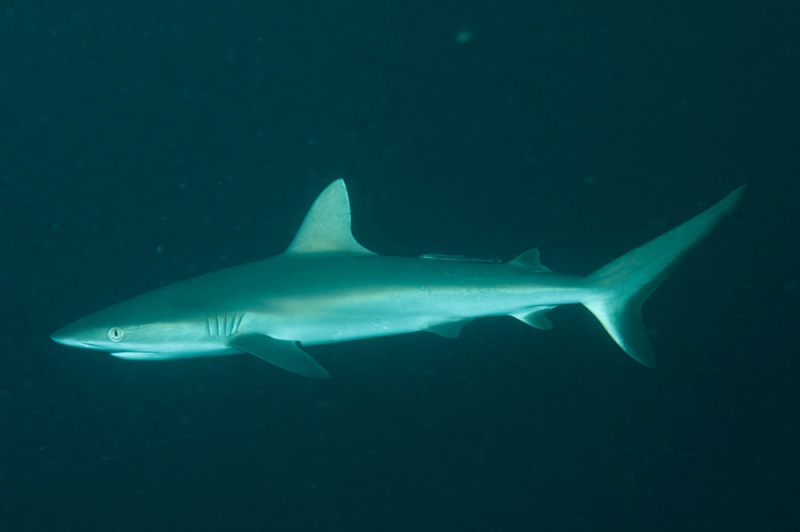Carcharhinus_amblyrhynchos: (35, 171, 757, 395)
